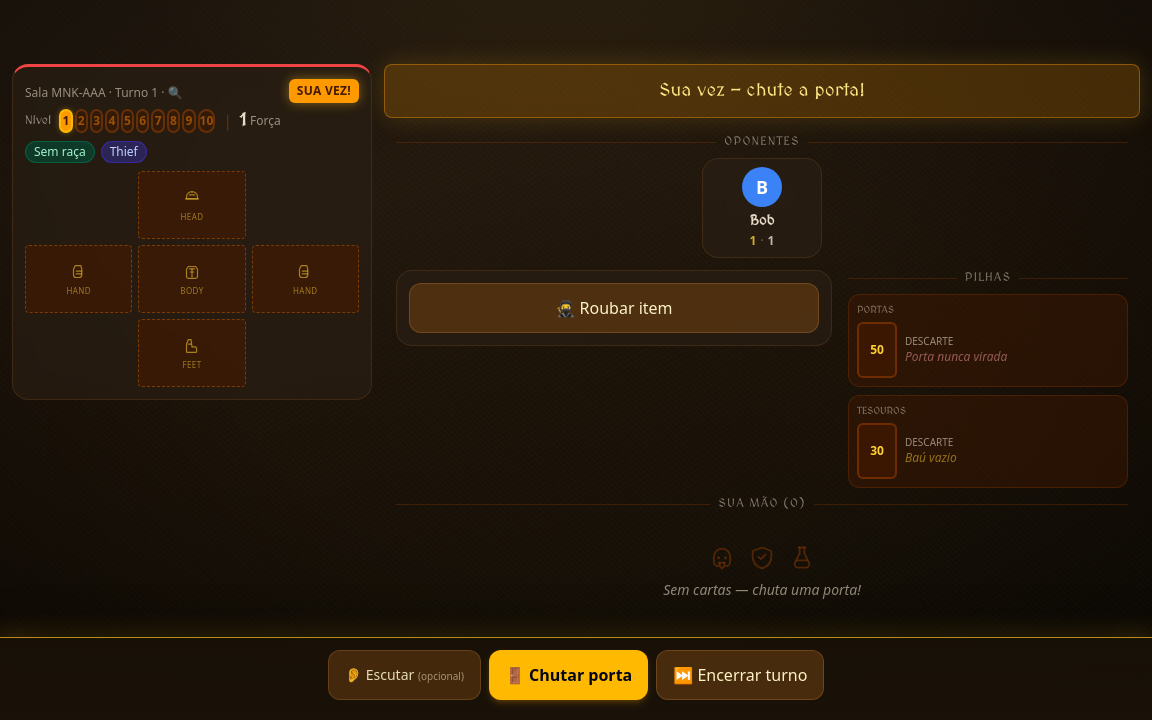
Test: PlayerView › Thief steal cancellable from target selection
What coordinates should you click on to do the following:
click the button "🥷 Roubar item"
I would click on:
 (614, 308)
Its box is left=409, top=283, right=819, bottom=333.
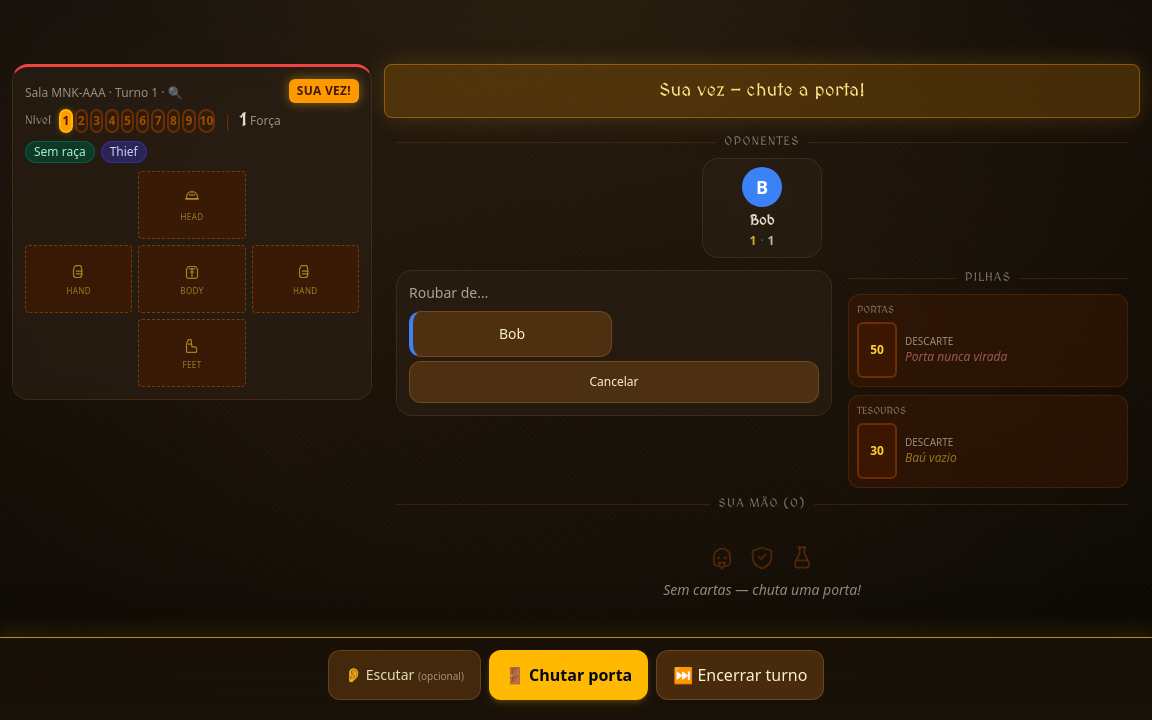
What coordinates should you click on to do the following:
click the button "Cancelar"
I would click on:
 (614, 382)
Its box is left=409, top=361, right=819, bottom=403.
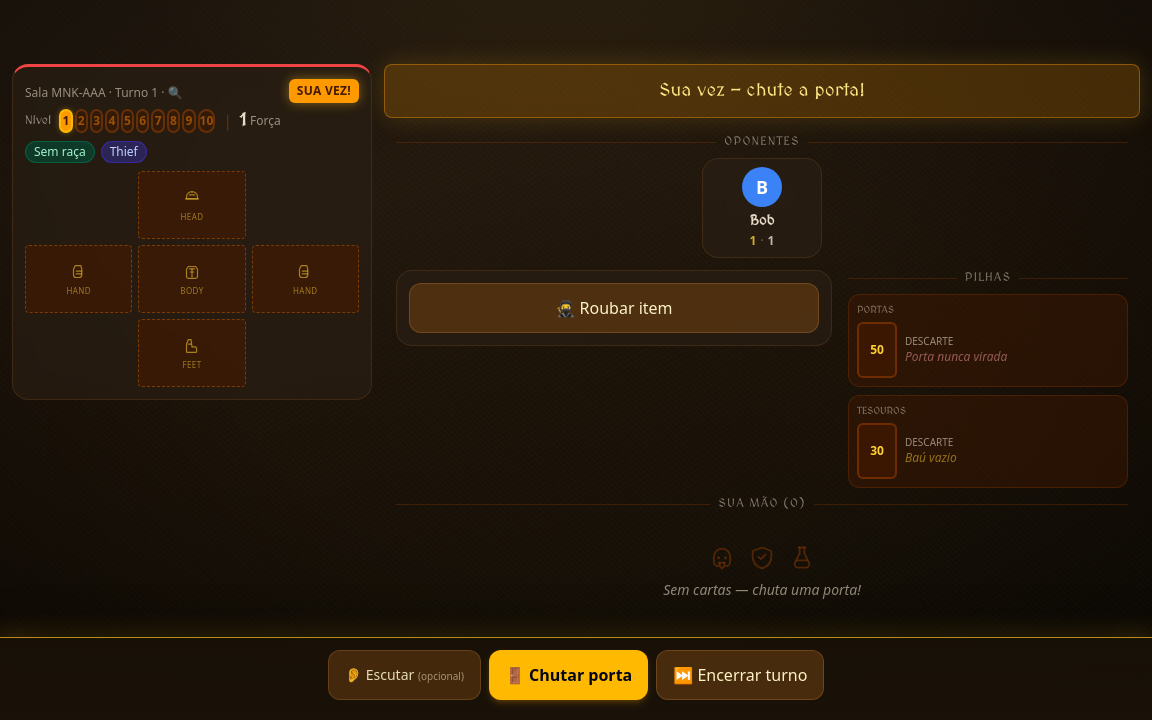
Expected: the button "🥷 Roubar item" is shown, left=409, top=283, right=819, bottom=333
